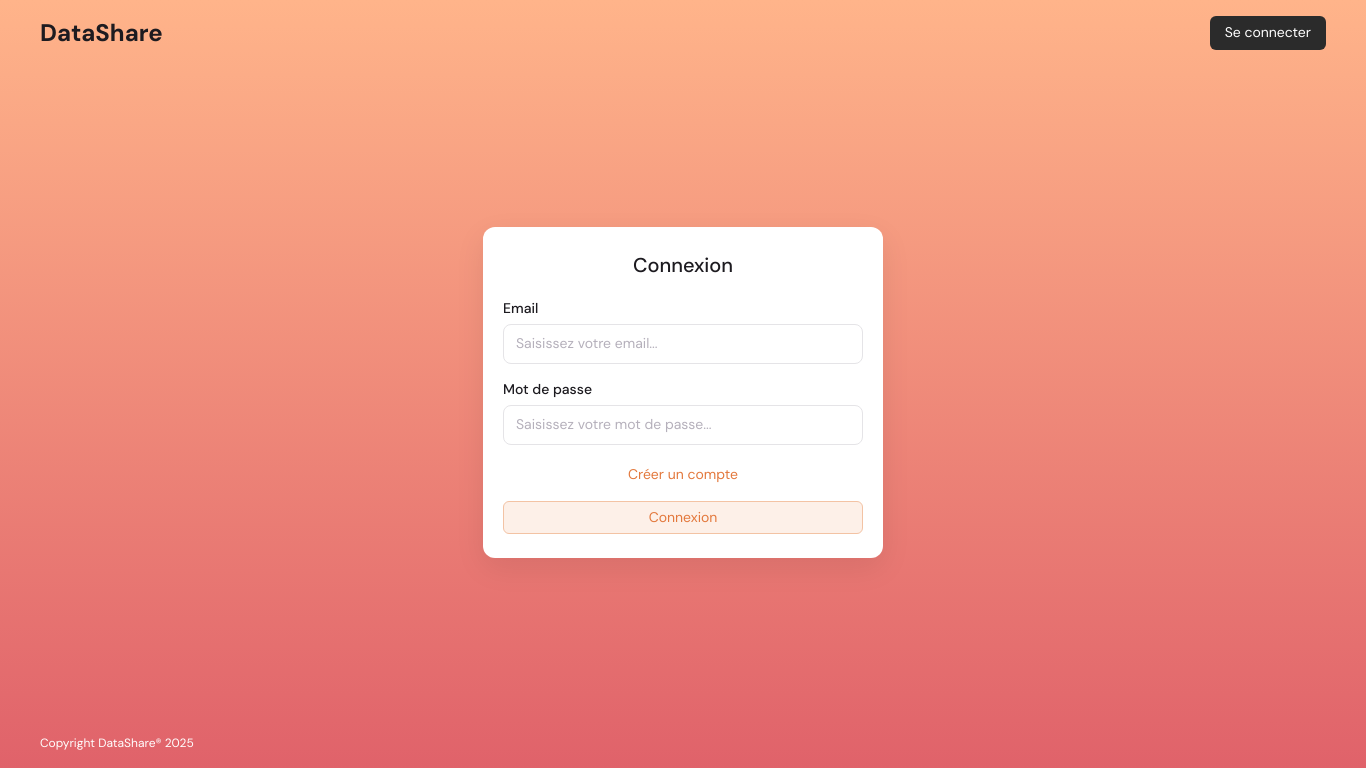
Test case: LoginPage (US04) › shows the API message when the credentials are rejected
Type "alice@test.fr" into the field labelled "Email" at point(683, 344), box [503,324,863,364]
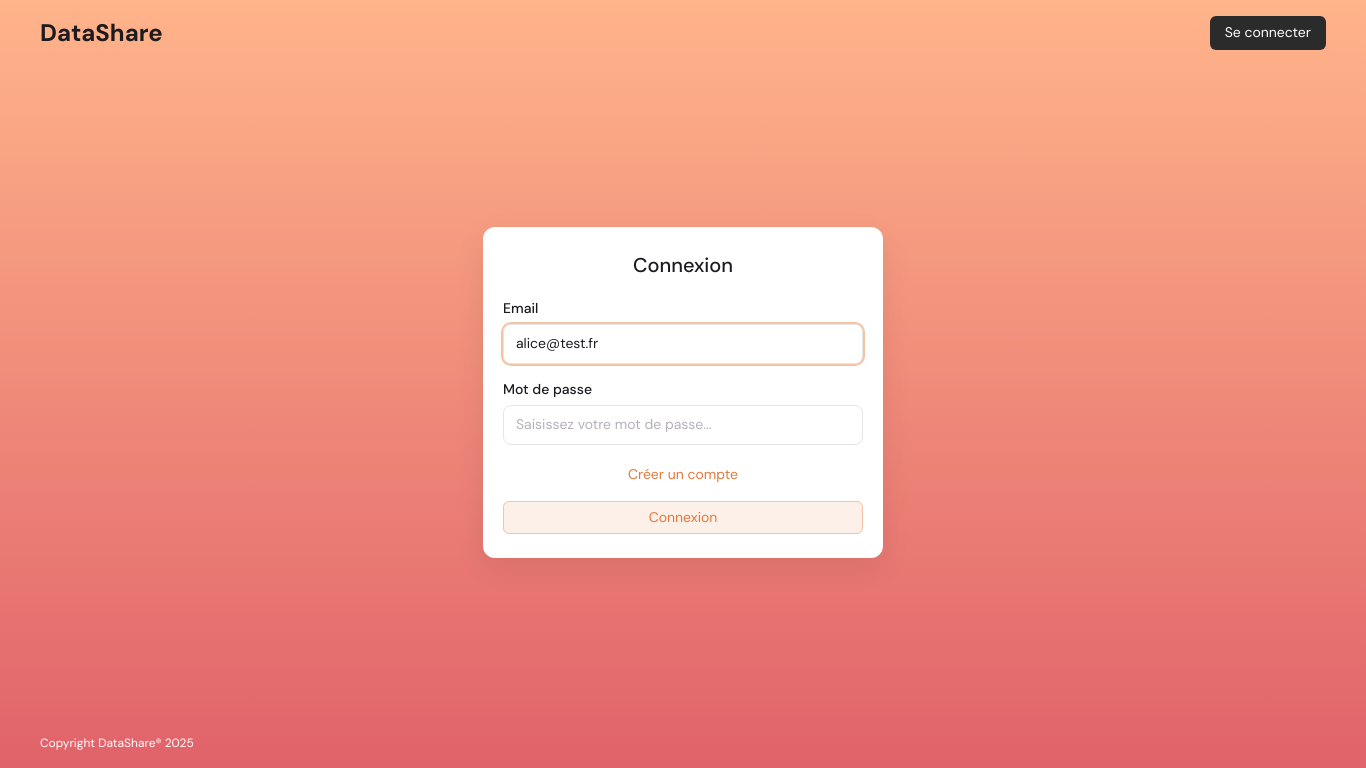
Type "mauvais" into the password field labelled "Mot de passe" at point(683, 425), box [503,405,863,445]
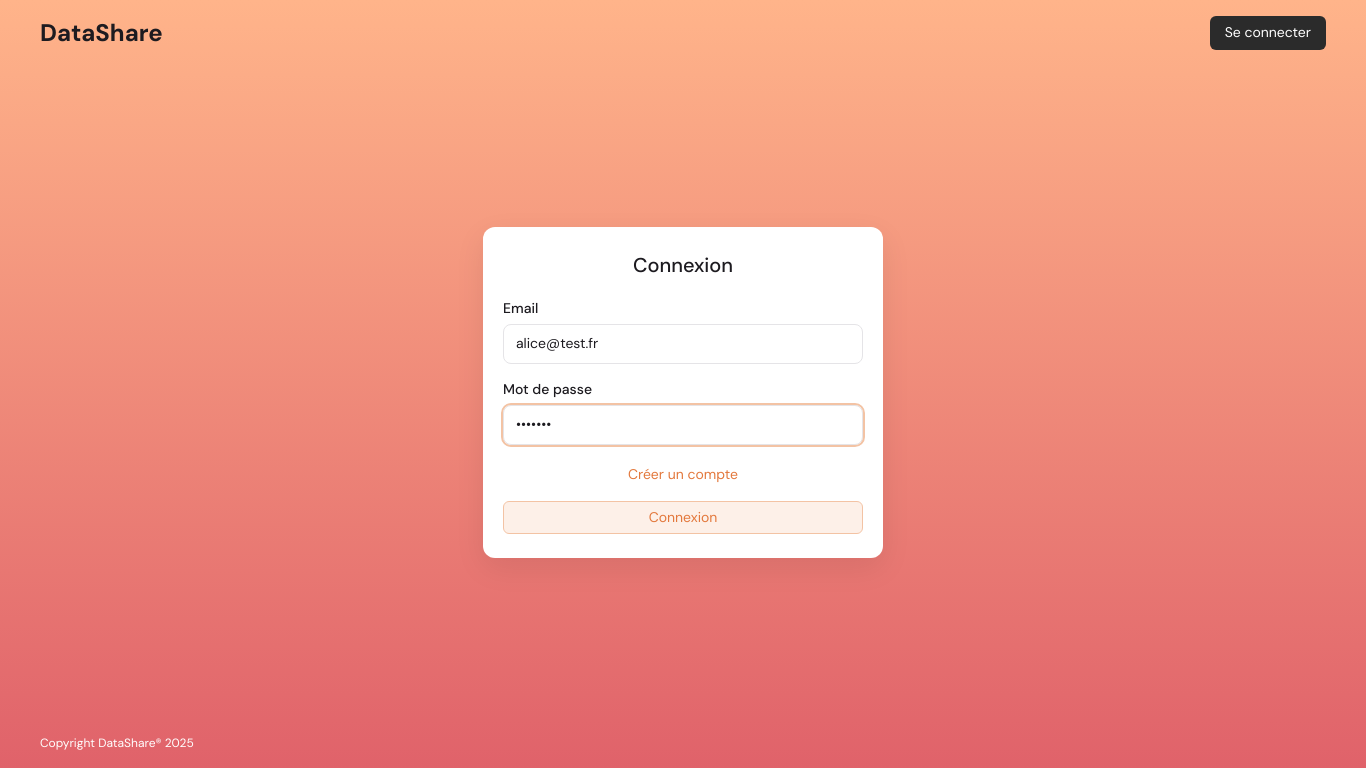
Click the button "Connexion" at point(683, 517), box [503,501,863,534]
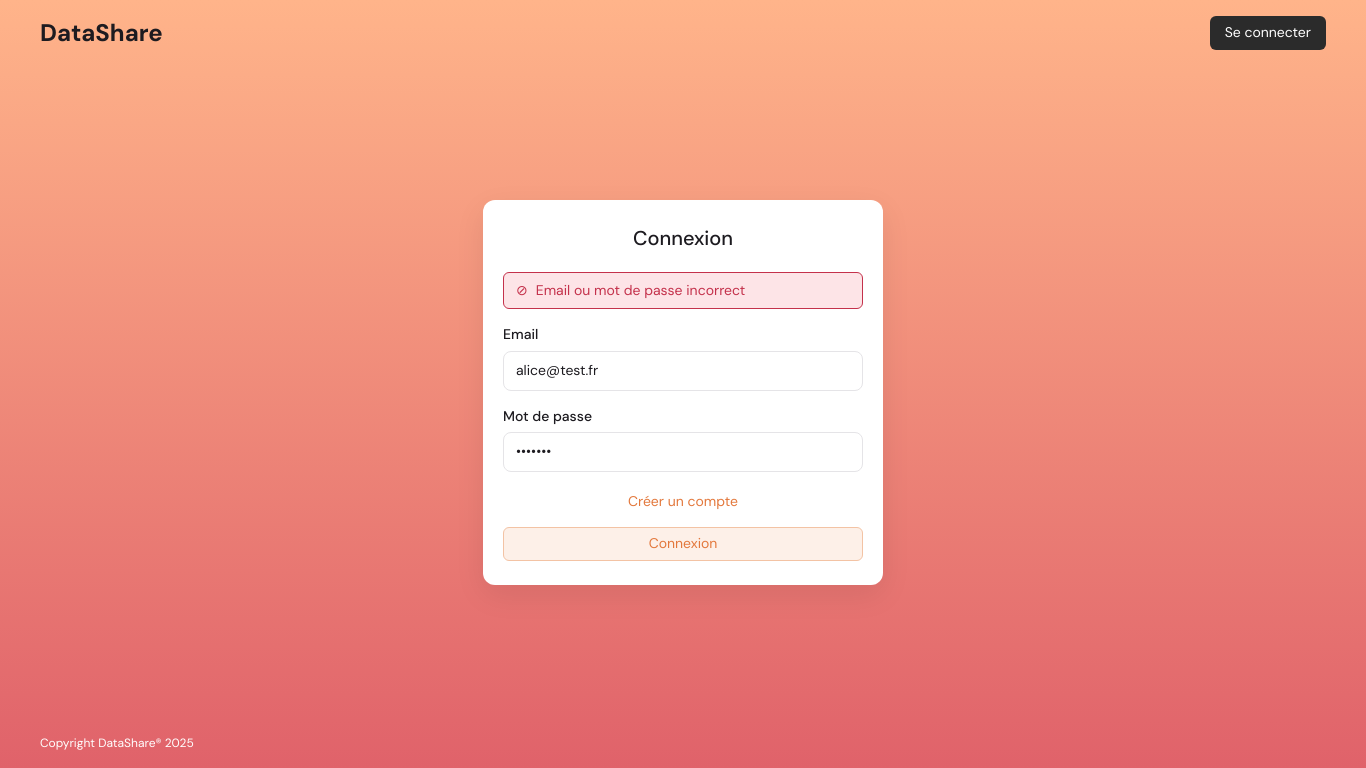
Check: the button "Connexion" is enabled, box [503,527,863,561]
Check: the message shows "Email ou mot de passe incorrect", box [536,281,745,299]
